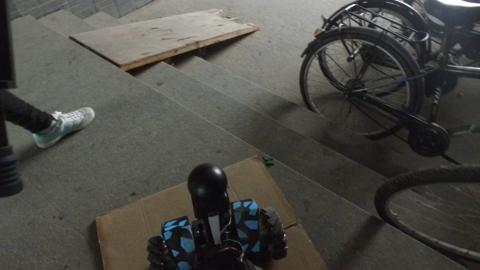bike: (299, 2, 474, 148)
chariot: (140, 164, 292, 268)
